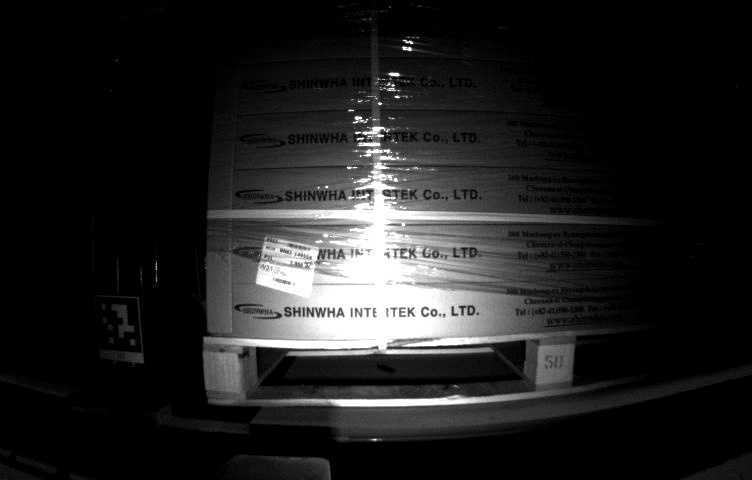True Barcode: (258, 237, 317, 298)
